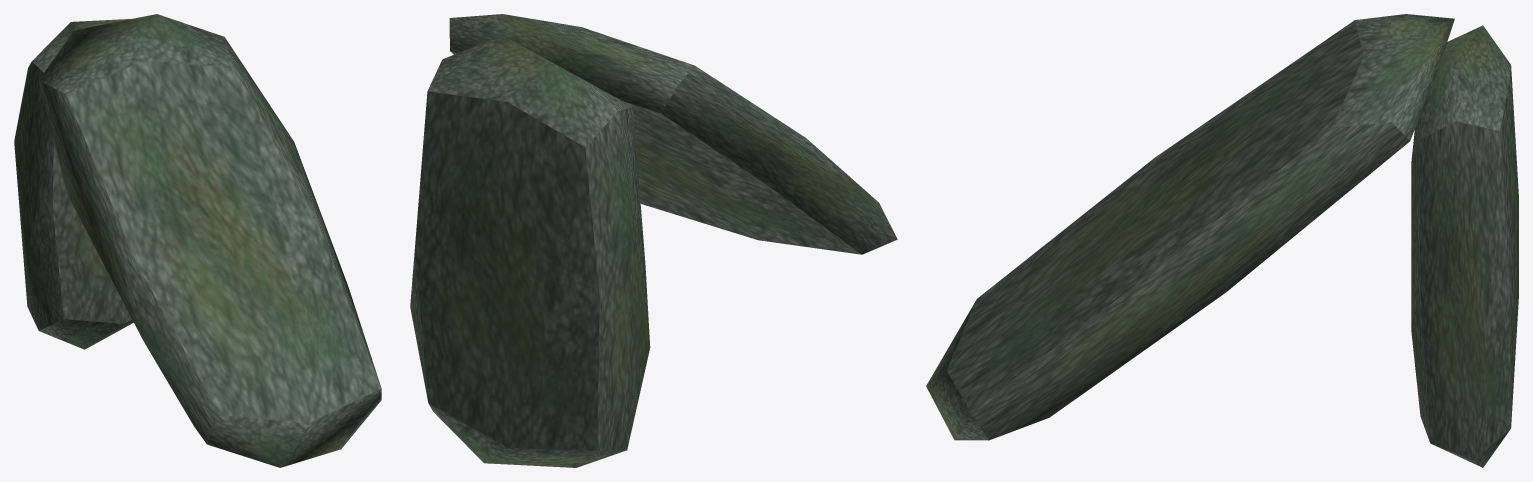
The model's file is ruins06.obj.
The picture shows the model from 3 angles, left to right: view 1: azimuth 30°, elevation 25°; view 2: azimuth 150°, elevation 25°; view 3: azimuth 270°, elevation 25°; orthographic projection. The views are drawn at different scales.
Parts seen in each view (by area): view 1: Duplicate20, Box08; view 2: Box08, Duplicate20; view 3: Duplicate20, Box08.
Boxes of the visible parts, x1=… form: Duplicate20: x1=39, y1=14, x2=381, y2=467; Box08: x1=14, y1=18, x2=133, y2=349; Box08: x1=410, y1=35, x2=650, y2=467; Duplicate20: x1=449, y1=14, x2=897, y2=254; Duplicate20: x1=926, y1=14, x2=1454, y2=440; Box08: x1=1411, y1=25, x2=1518, y2=467.
Size of the model in its own units: 20.12 by 28.96 by 37.24.
